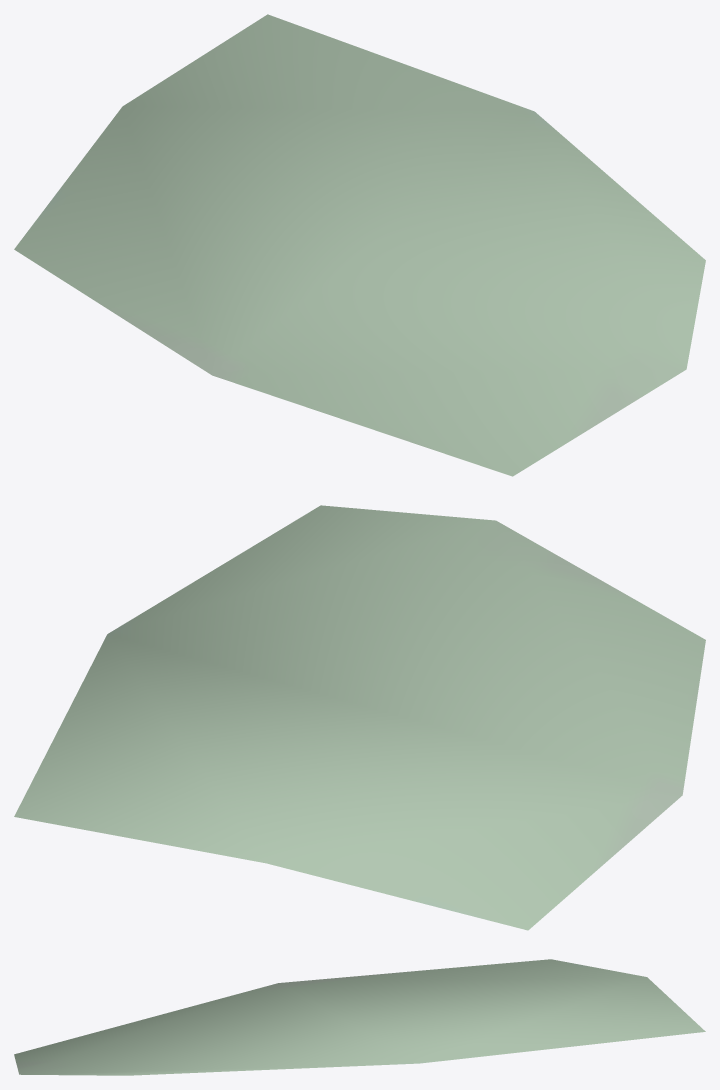
Rendered from TROLLHOLE02_HOLECAP13.fbx.
3 renders of one model, top to bottom at view 1: azimuth 30°, elevation 25°; view 2: azimuth 150°, elevation 25°; view 3: azimuth 270°, elevation 25°, orthographic. The views are drawn at different scales.
Parts seen in each view (by area): view 1: TROLLHOLE02_HOLECAP13; view 2: TROLLHOLE02_HOLECAP13; view 3: TROLLHOLE02_HOLECAP13.
Part boxes in pixels (x1,y1,x2,y2): TROLLHOLE02_HOLECAP13: [14, 14, 705, 476]; TROLLHOLE02_HOLECAP13: [14, 505, 705, 930]; TROLLHOLE02_HOLECAP13: [14, 959, 705, 1075].
Bounding box in the file's own units: 23910 × 6200 × 39400.
Materials: 1 (1 with a texture image).
